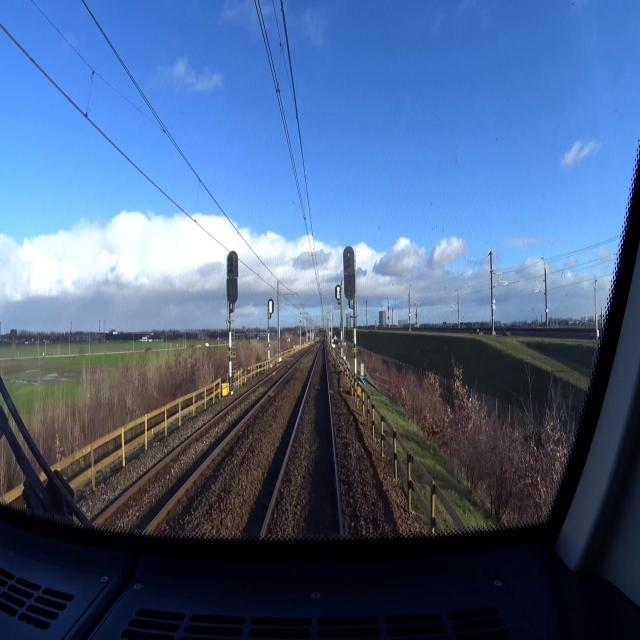rail-track: (103, 359, 296, 533), (265, 344, 339, 539)
